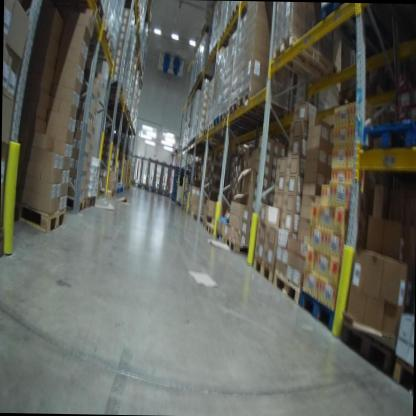pallet: (319, 5, 394, 61), (338, 315, 396, 387), (268, 31, 340, 87), (356, 112, 416, 157), (13, 191, 67, 234), (237, 89, 289, 125), (297, 289, 338, 328), (228, 97, 272, 126), (271, 268, 301, 307), (218, 108, 256, 131), (390, 358, 413, 394), (86, 37, 115, 63), (61, 0, 105, 17), (252, 254, 276, 285), (225, 232, 252, 255), (213, 113, 243, 133), (65, 191, 88, 214), (94, 15, 109, 44), (207, 122, 234, 138), (205, 221, 218, 237), (86, 193, 97, 210), (99, 186, 113, 199), (215, 230, 226, 243), (201, 220, 206, 229)
